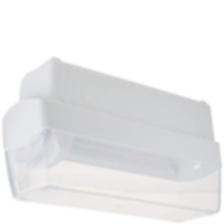plastic_box: (0, 52, 224, 223)
